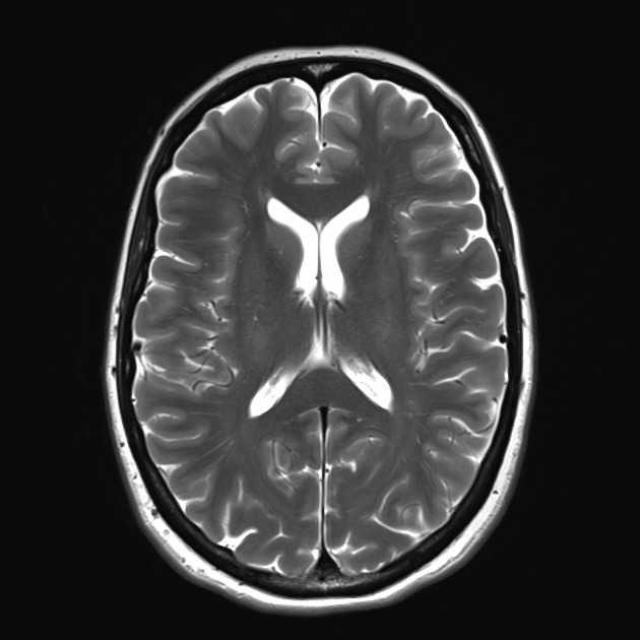No_Tumor: (106, 49, 533, 611)
